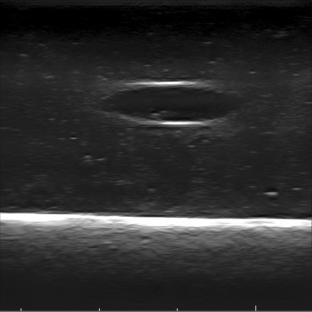vessel: (103, 81, 241, 126)
